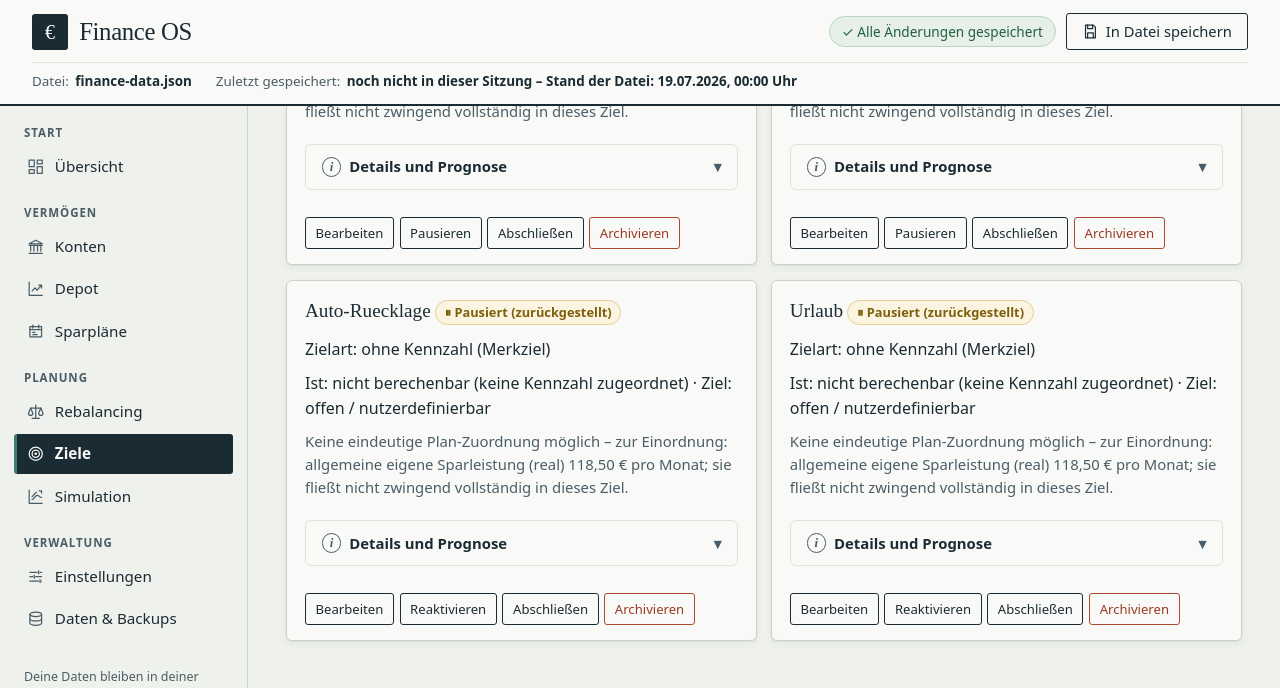
Test: GoalsPage – Statusaktionen (Bestätigung + Dirty-Vergleich) › Archivieren ist endgültig: Karte bleibt (kein Löschen), keine Aktionen mehr, Dashboard blendet aus
The width and height of the screenshot is (1280, 688).
(page scrolled)
Click the button with aria-label "Ziel „Urlaub“ archivieren".
click(1134, 609)  # box [1089,593,1180,625]
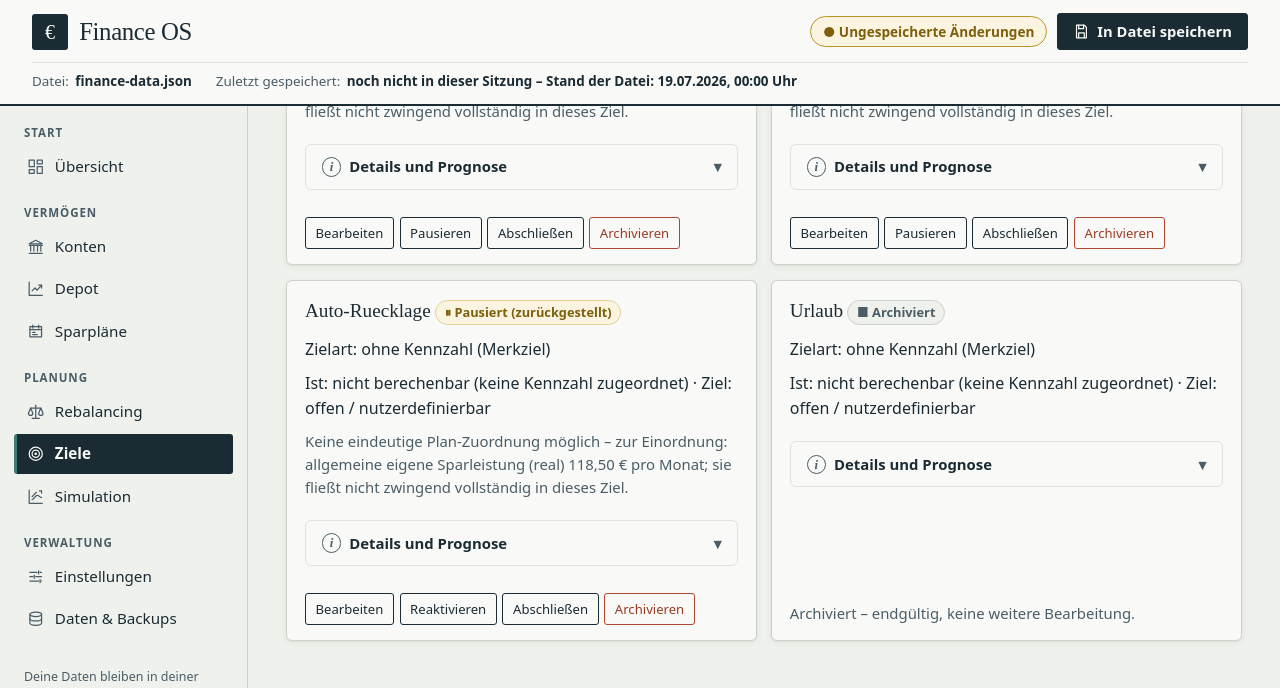
Now the text "■ Archiviert" is shown, box [847,300,945,325]
Now the text "Archiviert – endgültig, keine weitere Bearbeitung." is shown, box [790,602,1135,625]
Dashboard-Ausblendung: das archivierte Ziel erscheint dort nicht mehr.
Click the button "Übersicht".
click(124, 166)  # box [14,146,233,186]
(page scrolled)
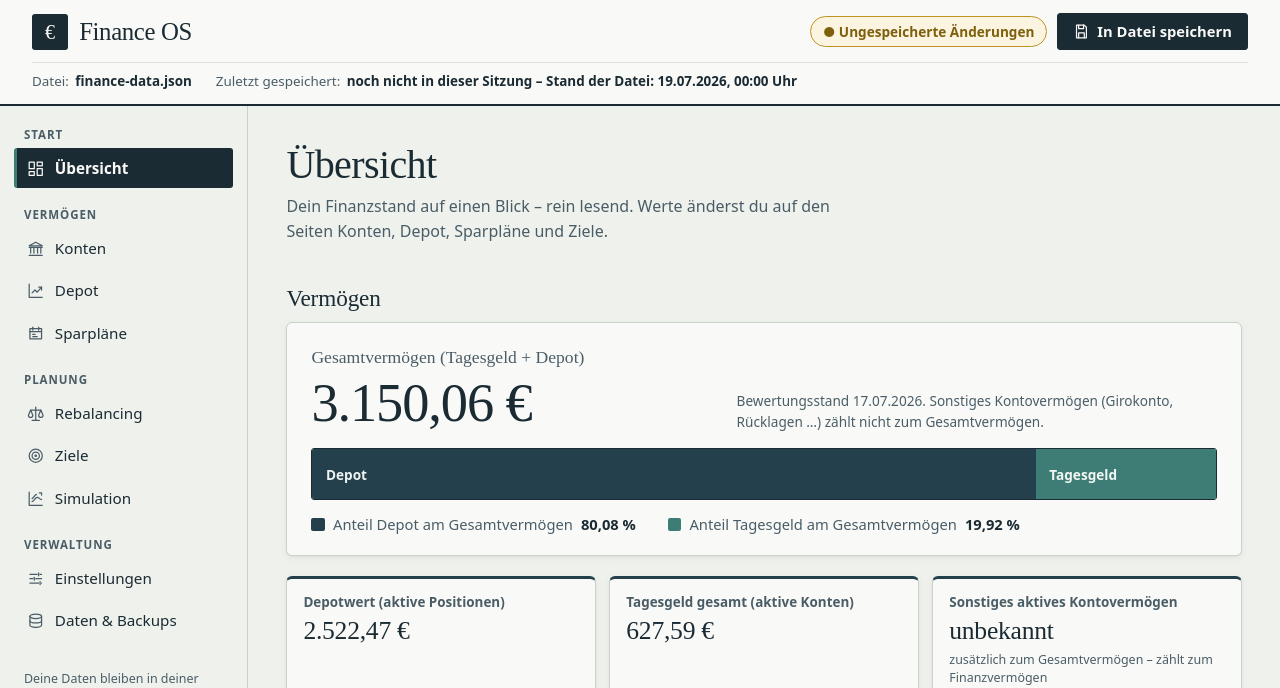
Now the text "Urlaub" is gone
